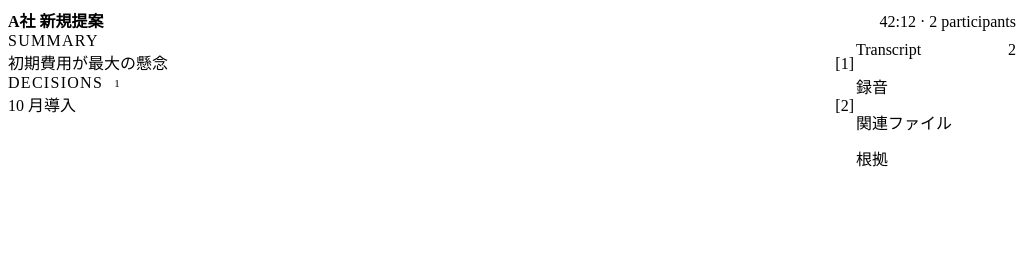
it: MeetingArtifact (§12.6) › jumps from a citation to the transcript line and its timestamp
expect the text "初期費用が最大の懸念" is shown: met, box [8,55,168,72]
Click the button named "根拠 2 を見る".
click(845, 106)  # box [833,97,856,115]
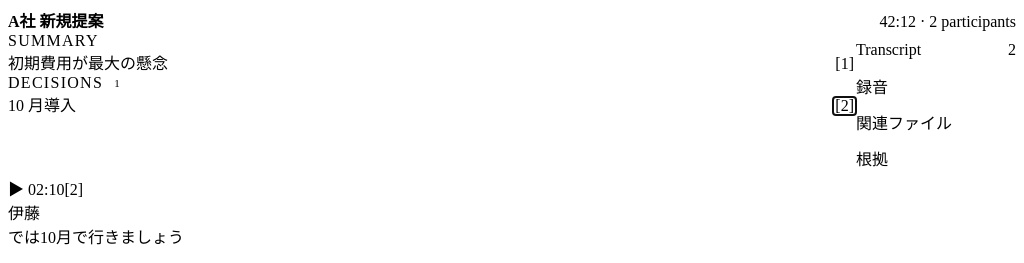
expect the element named "根拠" shows "02:10": met, box [28,181,64,198]
expect the element named "根拠" shows "伊藤": met, box [8,205,40,222]
expect the element named "根拠" shows "では10月で行きましょう": met, box [8,229,184,246]
